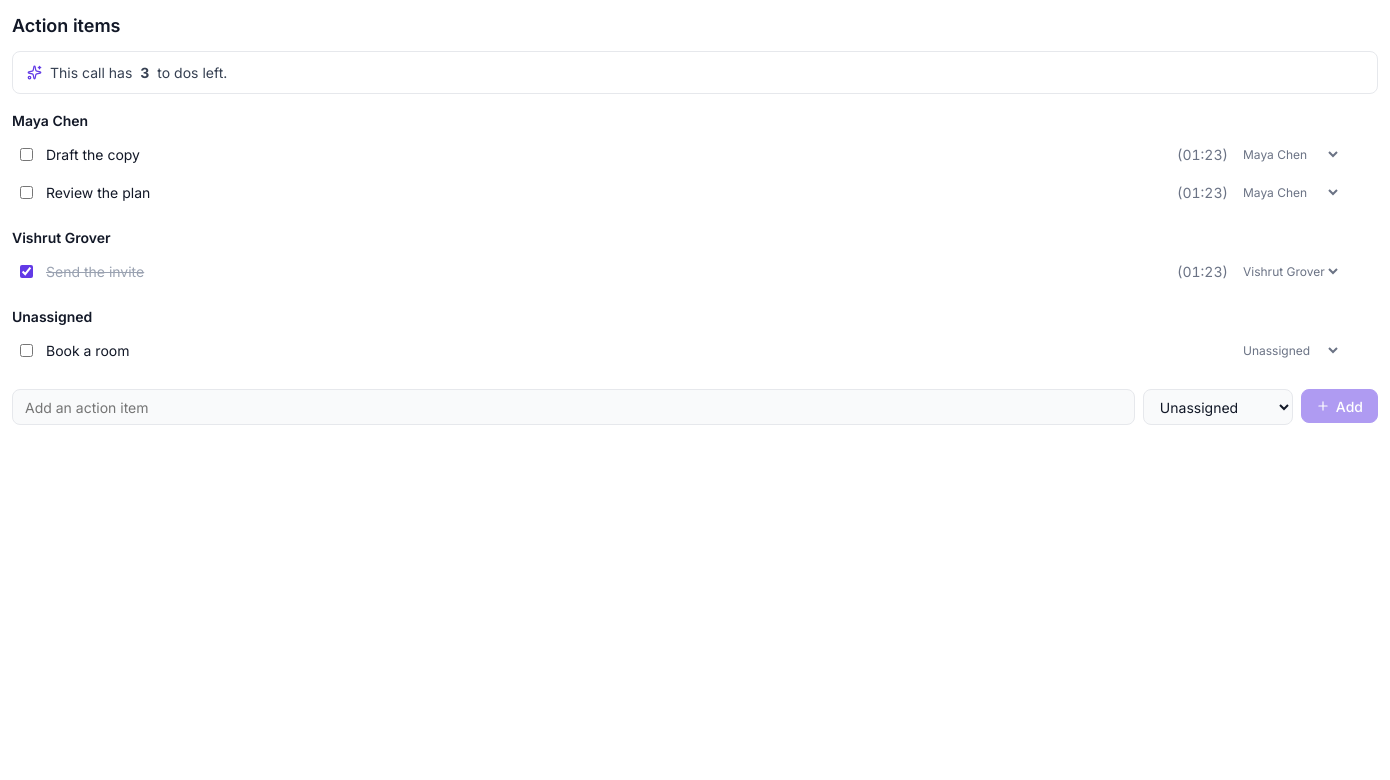
Test case: ActionItems › shows the server's message and keeps what was typed when saving fails
Type "Call" into the field named "New action item".
click(573, 407); type("Call")  # box [12,389,1135,425]
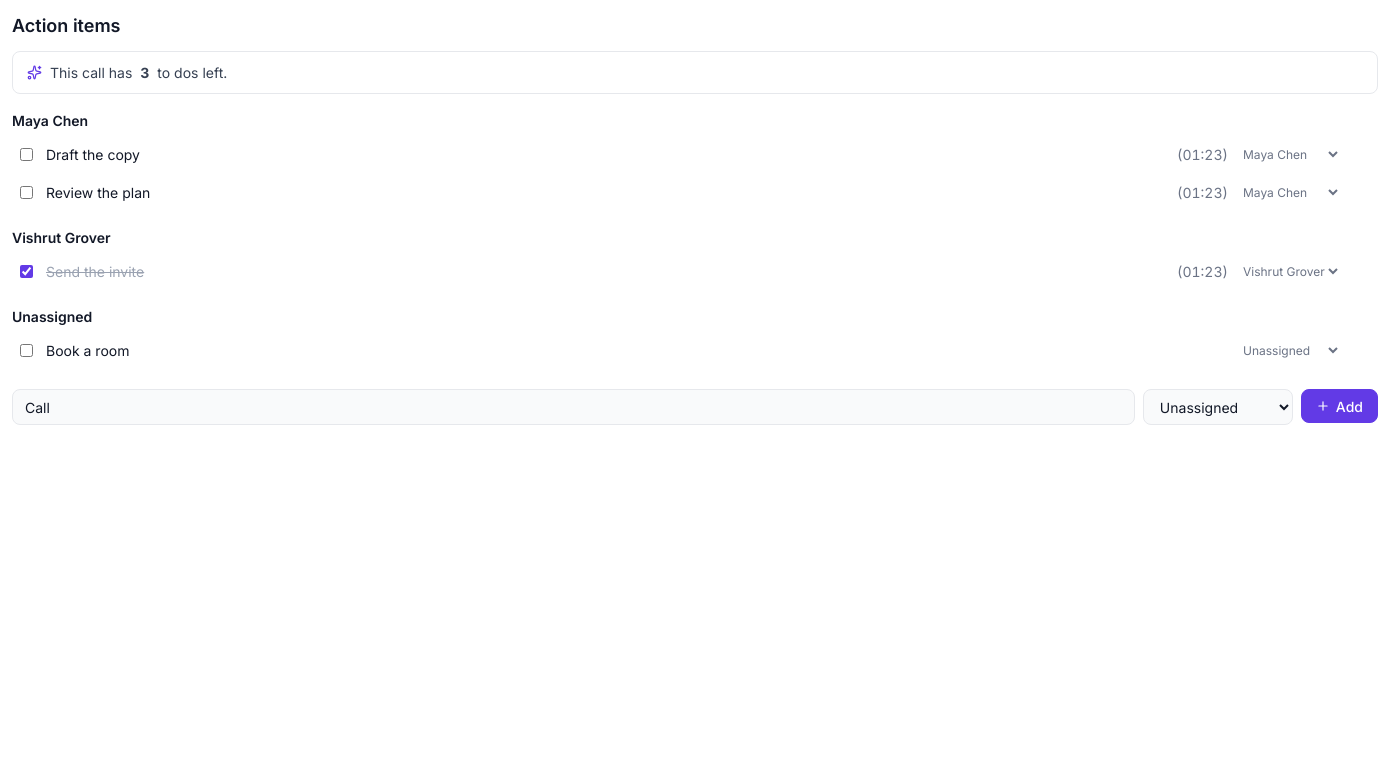
Click the button "Add".
click(1339, 406)  # box [1301,389,1378,423]
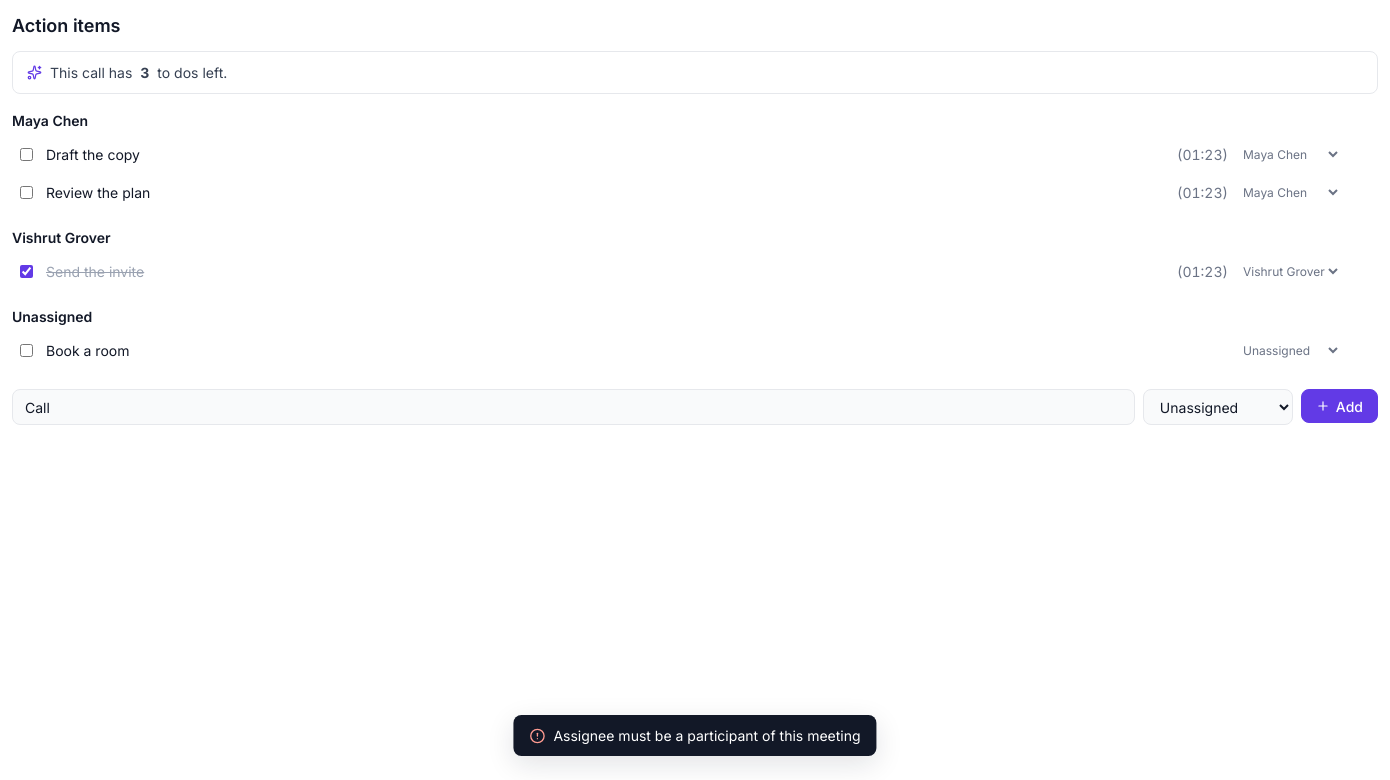
Check: the text "Assignee must be a participant of this meeting" is shown, box [513,715,877,756]
